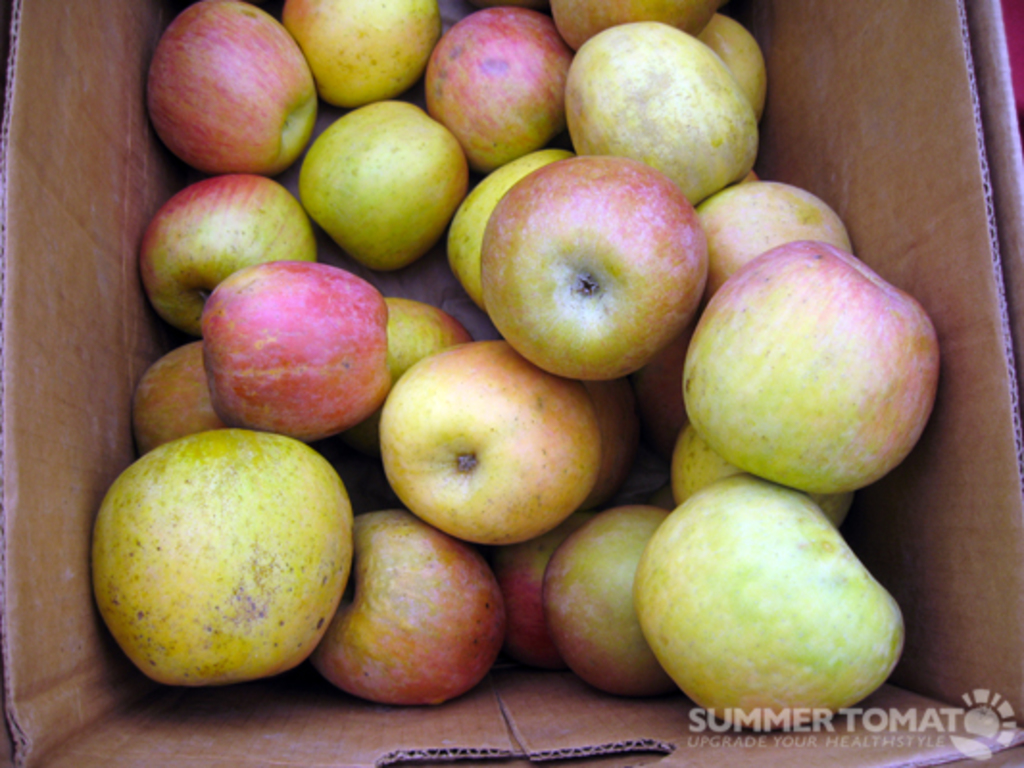Apple: (90, 0, 949, 735), (459, 147, 707, 384)
